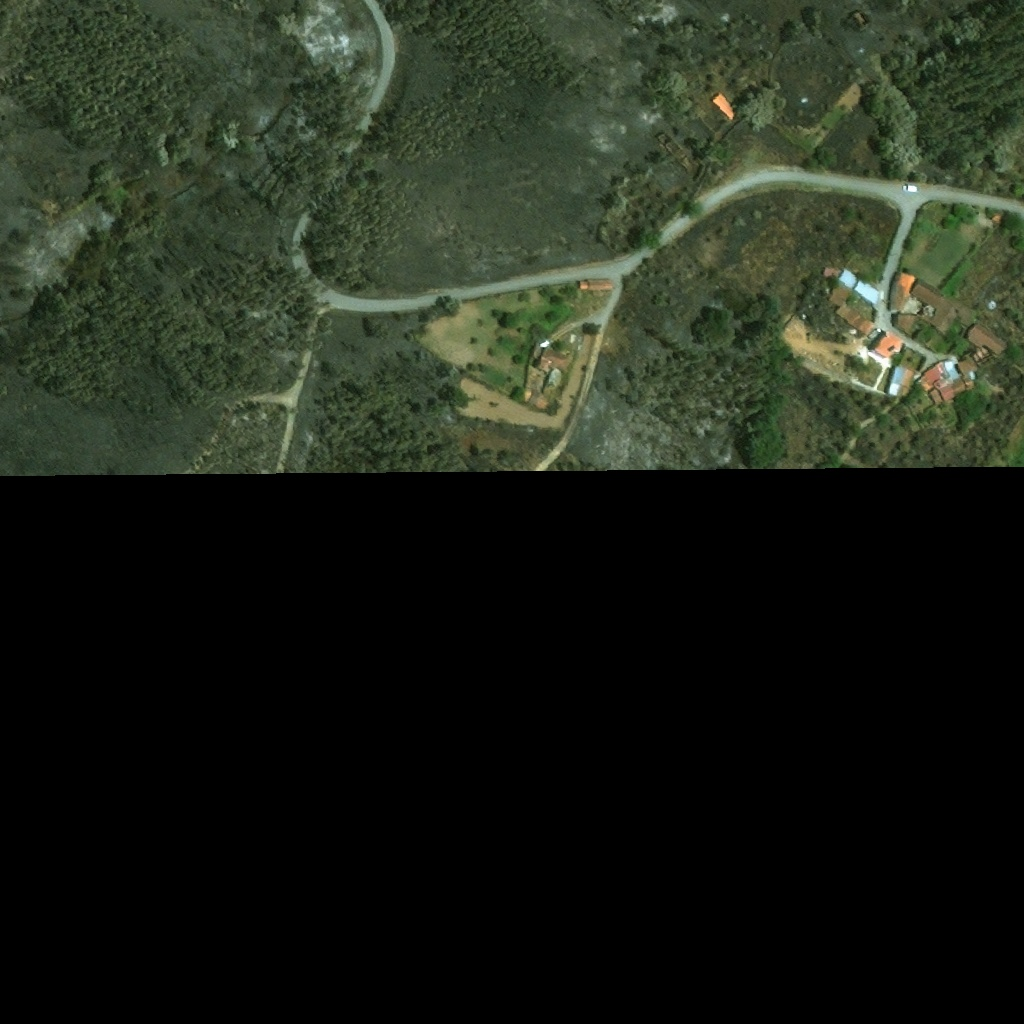0 no-damage: (911, 277, 979, 356), (966, 320, 1010, 355), (827, 269, 861, 307), (918, 360, 961, 390), (530, 342, 571, 372), (837, 305, 876, 336), (889, 270, 916, 311), (889, 363, 916, 398), (873, 330, 905, 359), (711, 91, 739, 120), (856, 278, 882, 305), (522, 387, 552, 410), (955, 353, 980, 376), (895, 313, 916, 332), (928, 387, 945, 406), (952, 376, 968, 396), (939, 386, 955, 403), (588, 280, 612, 291), (965, 369, 978, 389), (547, 369, 562, 386), (821, 267, 842, 279), (991, 211, 1007, 225), (934, 379, 945, 389), (580, 281, 588, 290)
3 destroyed: (648, 155, 683, 191), (969, 344, 996, 365)
4 un-classified: (902, 163, 916, 177)
